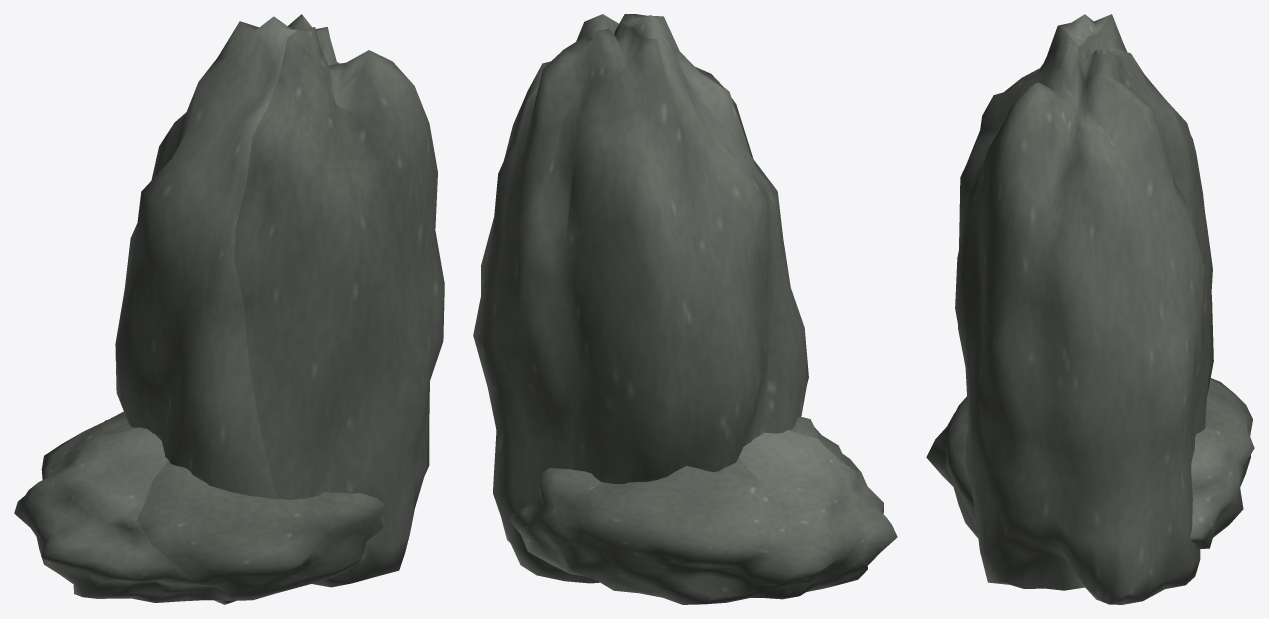
The model's file is NaturalRock_01_TallMonolith.fbx.
The picture shows the model from 3 angles, left to right: view 1: azimuth 30°, elevation 25°; view 2: azimuth 150°, elevation 25°; view 3: azimuth 270°, elevation 25°; orthographic projection.
Visible parts, largest first — view 1: Rock_Main, Rock_Base; view 2: Rock_Main, Rock_Base; view 3: Rock_Main, Rock_Base.
Boxes of the visible parts, x1=… form: Rock_Main: x1=115, y1=14, x2=444, y2=604; Rock_Base: x1=14, y1=411, x2=385, y2=602; Rock_Main: x1=473, y1=14, x2=808, y2=583; Rock_Base: x1=509, y1=416, x2=897, y2=604; Rock_Main: x1=955, y1=14, x2=1213, y2=604; Rock_Base: x1=926, y1=378, x2=1254, y2=548.
Bounding box in the file's own units: 2.09 × 2.82 × 1.54.
2 materials, 2 textured.
